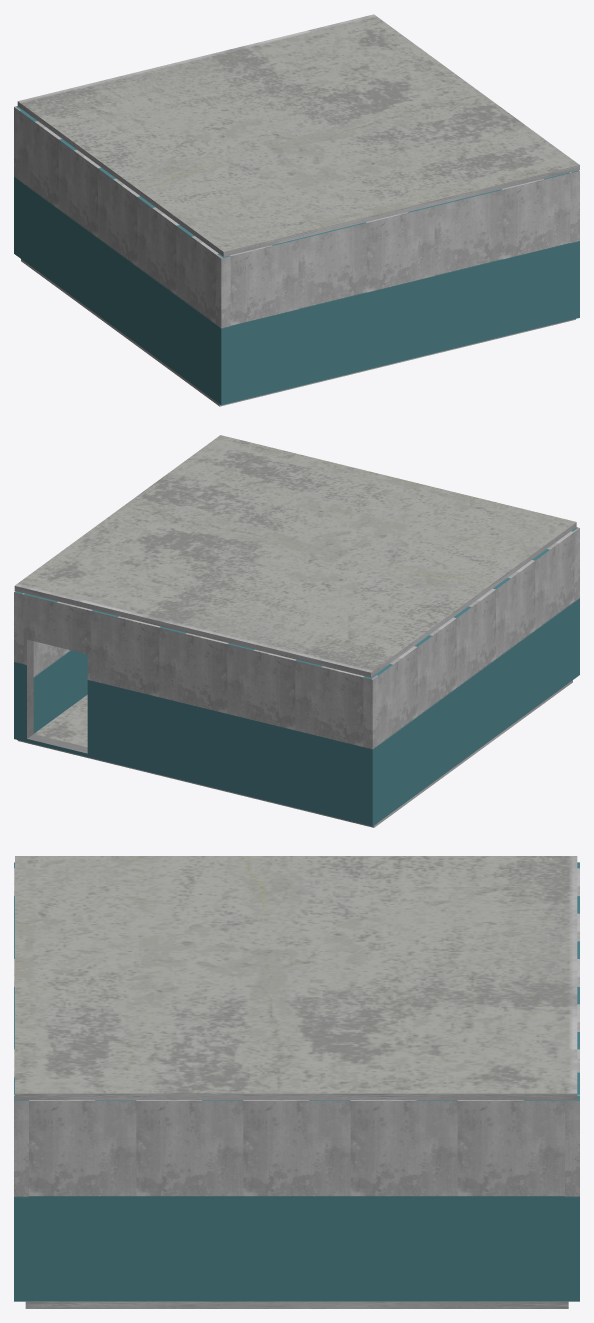
The model's file is AraiMioAshley_PhysicsLab.fbx.
3 renders of one model, top to bottom at view 1: azimuth 30°, elevation 25°; view 2: azimuth 150°, elevation 25°; view 3: azimuth 270°, elevation 25°, orthographic. The views are drawn at different scales.
Parts seen in each view (by area): view 1: floor_ceiling1, window_wall18, window_wall5, window_wall2, window_wall59, window_wall3, window_wall6, window_wall12, window_wall57, window_wall19, window_wall58, window_wall7 (+3 smaller); view 2: floor_ceiling1, window_wall11, Window_wall8, window_wall20, window_wall9, window_wall12, window_wall19, window_wall58, window_wall6, window_wall57, door_wall, window_wall (+5 smaller); view 3: floor_ceiling1, window_wall13, window_wall14, window_wall15, window_wall21, window_wall, floor_ceiling, window_wall1, window_wall8.
Boxes of the visible parts, bbox=[...] form: floor_ceiling1: bbox=[17, 14, 579, 256]; window_wall18: bbox=[502, 172, 570, 336]; window_wall5: bbox=[298, 222, 366, 386]; window_wall2: bbox=[230, 239, 298, 402]; window_wall59: bbox=[434, 189, 502, 352]; window_wall3: bbox=[366, 206, 434, 369]; window_wall6: bbox=[98, 167, 140, 343]; window_wall12: bbox=[19, 110, 61, 285]; window_wall57: bbox=[137, 196, 179, 371]; window_wall19: bbox=[176, 225, 218, 400]; window_wall58: bbox=[58, 139, 100, 314]; window_wall7: bbox=[215, 253, 230, 405]; floor_ceiling1: bbox=[14, 435, 576, 677]; window_wall11: bbox=[91, 610, 160, 774]; Window_wall8: bbox=[227, 643, 296, 807]; window_wall20: bbox=[295, 660, 364, 823]; window_wall9: bbox=[159, 626, 228, 790]; window_wall12: bbox=[375, 646, 417, 822]; window_wall19: bbox=[532, 531, 574, 707]; window_wall58: bbox=[414, 617, 456, 793]; window_wall6: bbox=[453, 588, 495, 764]; window_wall57: bbox=[493, 560, 535, 735]; door_wall: bbox=[23, 593, 92, 757]; window_wall: bbox=[33, 641, 68, 733]; floor_ceiling1: bbox=[15, 856, 577, 1100]; window_wall13: bbox=[243, 1100, 350, 1301]; window_wall14: bbox=[350, 1100, 457, 1301]; window_wall15: bbox=[136, 1100, 243, 1301]; window_wall21: bbox=[29, 1100, 136, 1301]; window_wall: bbox=[457, 1100, 564, 1301]; floor_ceiling: bbox=[25, 1301, 568, 1308]; window_wall1: bbox=[565, 1094, 579, 1301]; window_wall8: bbox=[14, 1094, 28, 1301].
Size of the model in its own units: 880 by 369 by 880.
